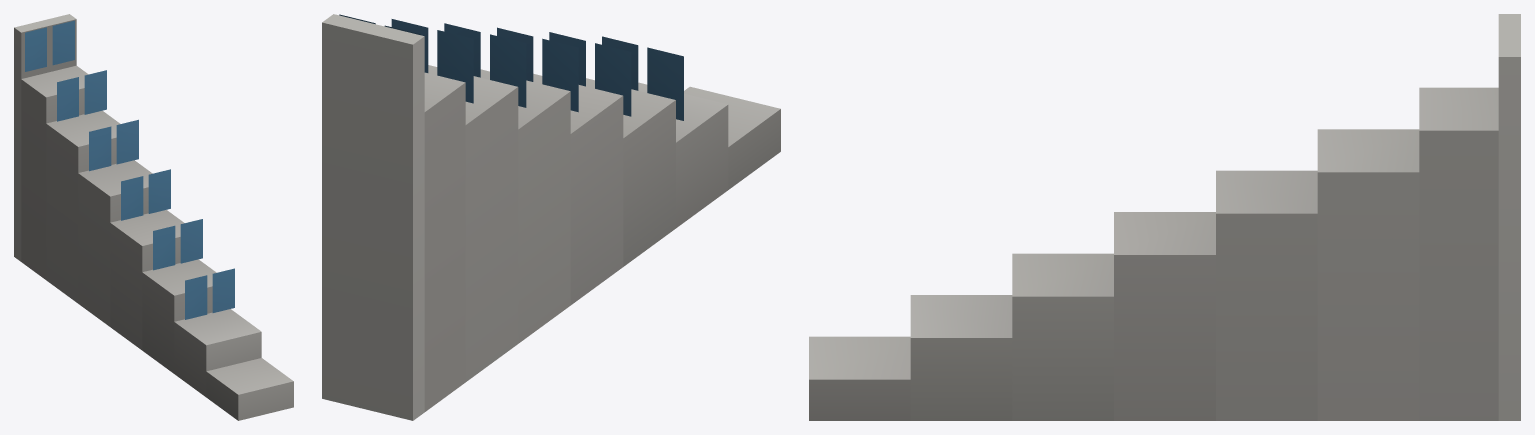
Rendered from stand.lod2.glb.
3 renders of one model, left to right at view 1: azimuth 30°, elevation 25°; view 2: azimuth 150°, elevation 25°; view 3: azimuth 270°, elevation 25°, orthographic. The views are drawn at different scales.
Size of the model in its own units: 1 by 3.95 by 7.
